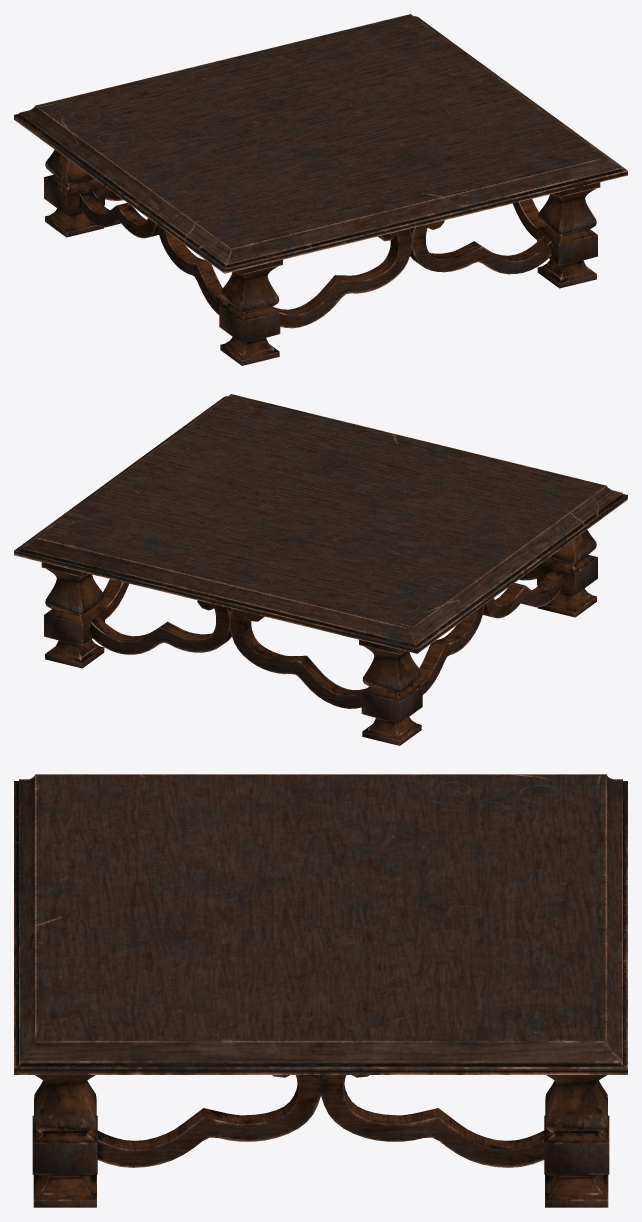
Rendered from wooden_center_table.glb.
3 views of the same model, one above another, from view 1: azimuth 30°, elevation 25°; view 2: azimuth 150°, elevation 25°; view 3: azimuth 270°, elevation 25° (orthographic). The views are drawn at different scales.
Visible parts, largest first — view 1: table_Center_lo; view 2: table_Center_lo; view 3: table_Center_lo.
Part boxes in pixels (box(x1,y1,x2,y2)): table_Center_lo: box(14, 14, 627, 365); table_Center_lo: box(14, 394, 627, 745); table_Center_lo: box(14, 774, 627, 1207).
Size of the model in its own units: 2.12 by 0.5991 by 1.92.
1 material, 1 textured.
